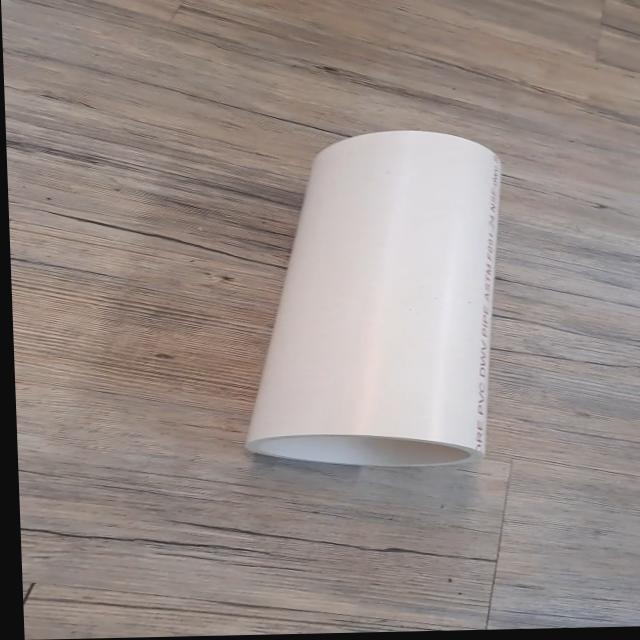CORAL: (211, 122, 521, 479)
